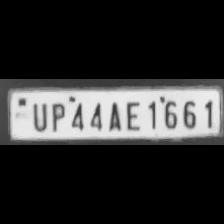1: (142, 98, 160, 130), (200, 97, 216, 129)
4: (66, 98, 86, 132), (86, 98, 104, 132)
6: (178, 97, 198, 129), (160, 97, 178, 129)
A: (104, 98, 122, 132)
E: (122, 98, 142, 132)
P: (48, 99, 66, 131)
U: (28, 99, 48, 131)
